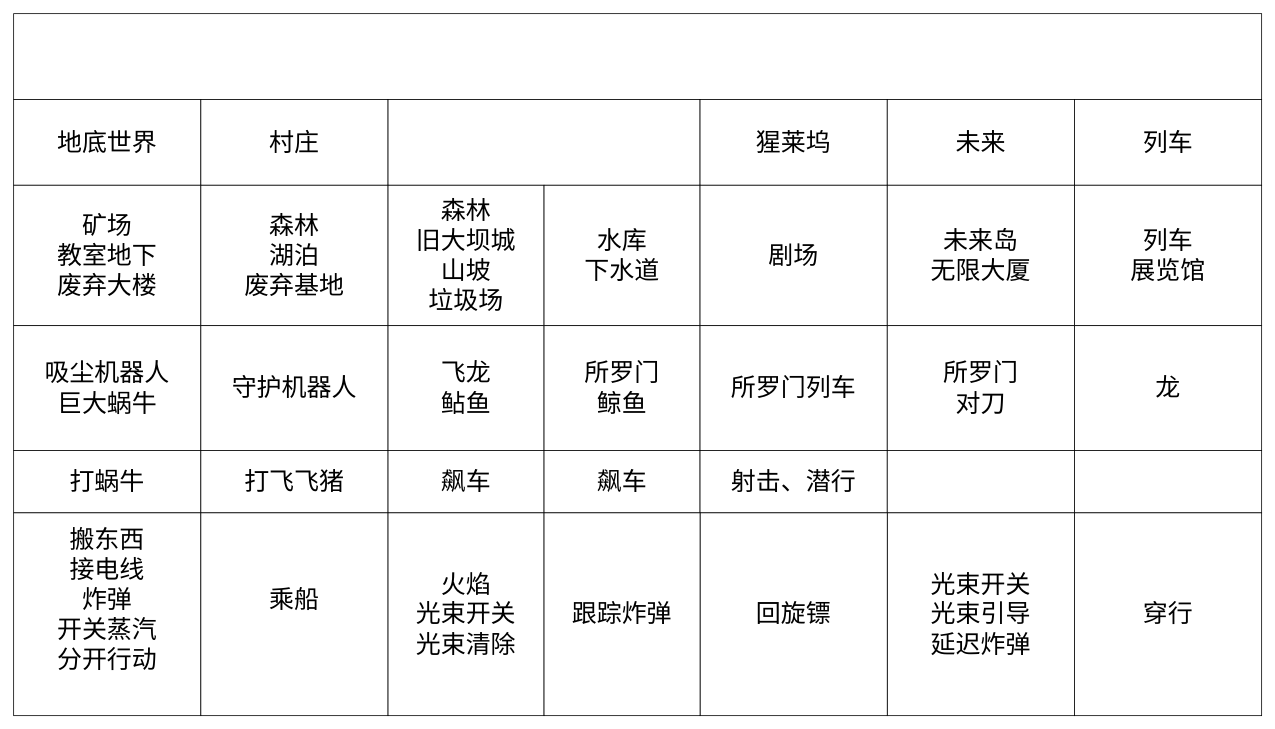
Image size: 1275x729. Some labels were removed from this diagram. Here are the shapes that lost their labels. From the top down, the centre of each, then its label:
At (637,56): "约翰和珊的冒险故事".
At (543,142): "大坝城".
